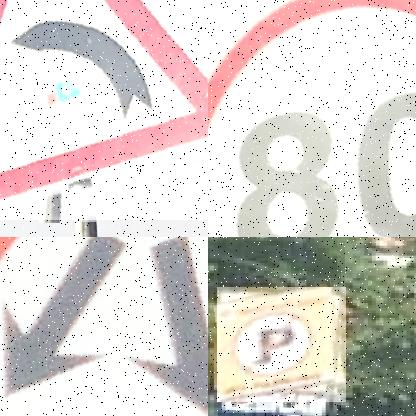No Parking: (217, 287, 346, 402)
Road Divides: (0, 237, 208, 416)
Speed Limit -80 kmph-: (208, 0, 416, 237)
